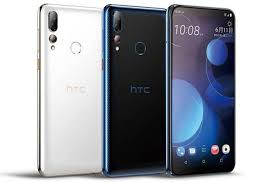htc: (162, 1, 237, 178), (35, 1, 105, 179), (101, 3, 167, 179)
